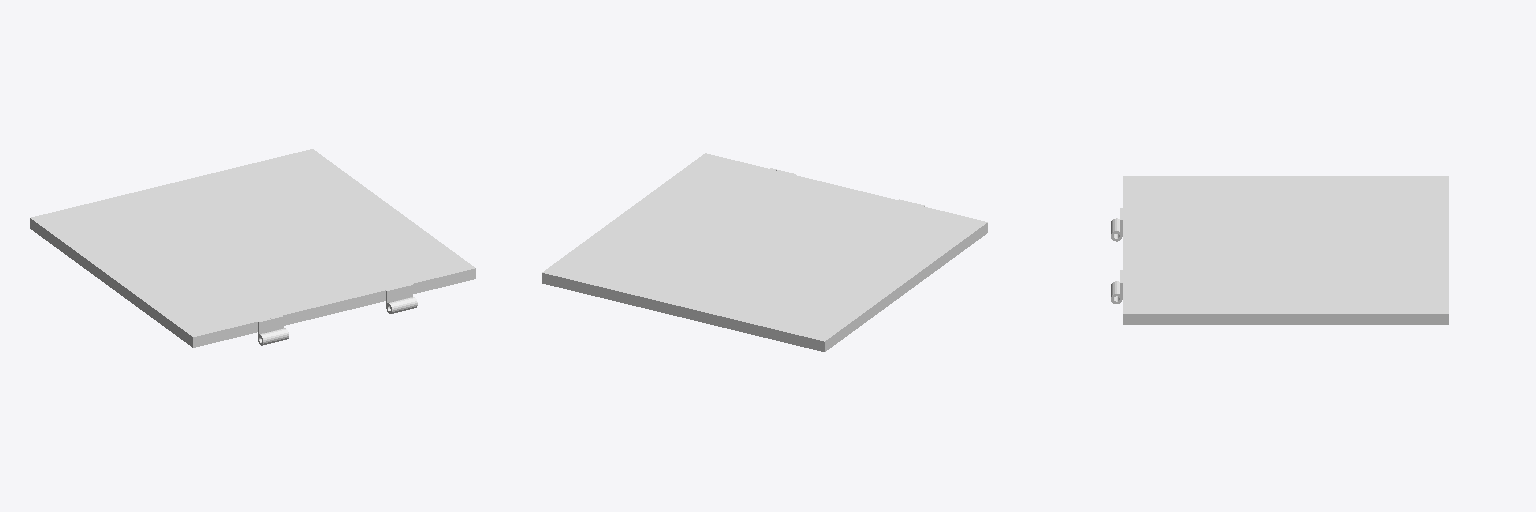
Rendered from couvercle_boite.obj.
3 renders of one model, left to right at view 1: azimuth 30°, elevation 25°; view 2: azimuth 150°, elevation 25°; view 3: azimuth 270°, elevation 25°, orthographic.
Visible parts, largest first — view 1: Couvercle; view 2: Couvercle; view 3: Couvercle.
Part boxes in pixels (x1,y1,x2,y2): Couvercle: (30, 149, 475, 347); Couvercle: (542, 153, 987, 351); Couvercle: (1111, 176, 1448, 324).
Bounding box in the file's own units: 550 × 40 × 570.